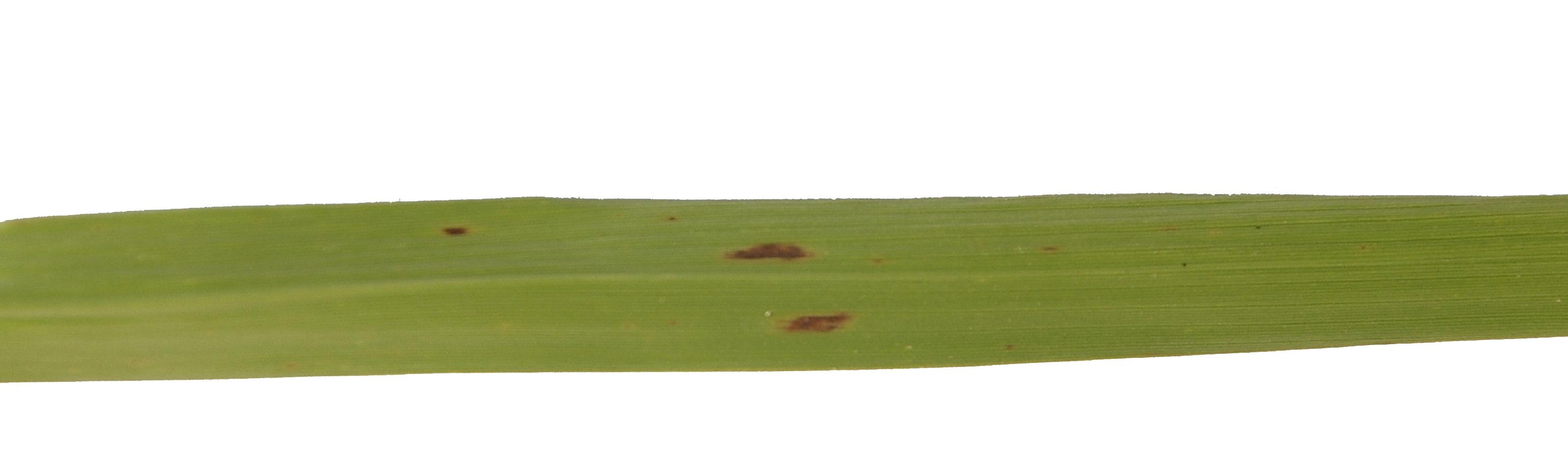Brown spot: (724, 237, 816, 271), (779, 310, 867, 337)
